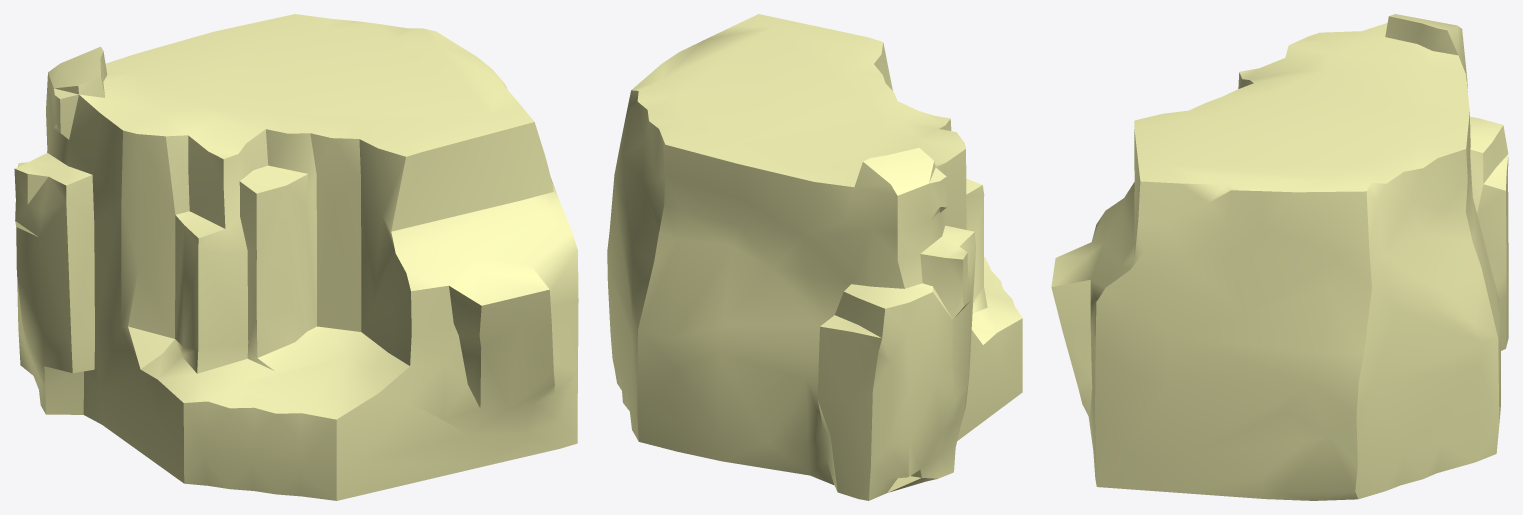
Rendered from MangaKa Props - N_R_Veg_Rocks_31.glb.
3 renders of one model, left to right at view 1: azimuth 30°, elevation 25°; view 2: azimuth 150°, elevation 25°; view 3: azimuth 270°, elevation 25°, orthographic. The views are drawn at different scales.
Parts seen in each view (by area): view 1: N_R_Veg_Rocks_31_blueScreen; view 2: N_R_Veg_Rocks_31_blueScreen; view 3: N_R_Veg_Rocks_31_blueScreen.
Part boxes in pixels (x1,y1,x2,y2): N_R_Veg_Rocks_31_blueScreen: (14,14,578,500); N_R_Veg_Rocks_31_blueScreen: (607,14,1022,500); N_R_Veg_Rocks_31_blueScreen: (1051,14,1508,500).
Bounding box in the file's own units: 28.18 × 21.72 × 27.72.
